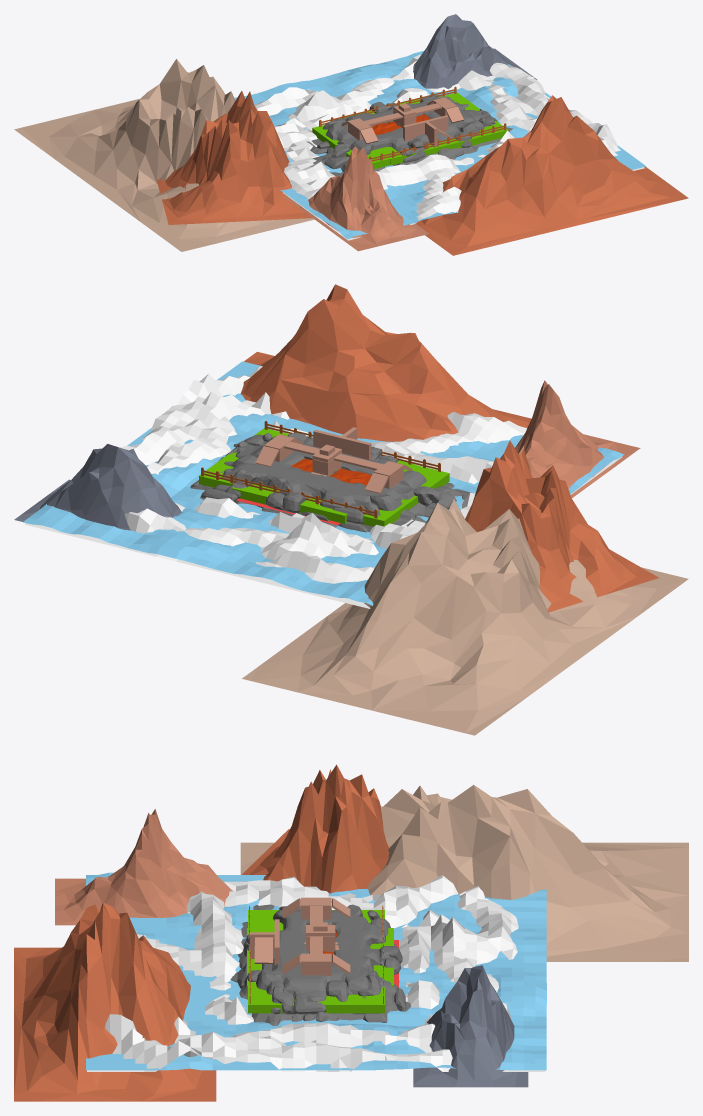
The model's file is enviroment.fbx.
3 views of the same model, one above another, from view 1: azimuth 30°, elevation 25°; view 2: azimuth 150°, elevation 25°; view 3: azimuth 270°, elevation 25° (orthographic). The views are drawn at different scales.
Parts seen in each view (by area): view 1: Landscape_1, Landscape_2, ground, Landscape_3, water, Landscape_5, Plane_4, Landscape_4, Cube_9_2, Cube_8_2, Cube_7_2, Cube_4_2 (+1 smaller); view 2: Landscape_2, ground, Landscape_1, water, Landscape_3, Plane_4, Landscape_4, Landscape_5, Cube_7_2, Cube_10_2, Cube_4_2, Cube_8_2; view 3: Landscape_2, ground, Landscape_1, water, Plane_4, Landscape_3, Landscape_5, Landscape_4, Cube_8_2, Cube_7_2, Cube_1_3, Cube_11_2.
Boxes of the visible parts, x1,y1,x2,y2 form: Landscape_1: (416,95,688,255); Landscape_2: (14,59,314,251); ground: (254,54,644,240); Landscape_3: (156,91,312,224); water: (234,51,646,239); Landscape_5: (283,146,429,251); Plane_4: (306,94,512,176); Landscape_4: (413,14,537,89); Cube_9_2: (378,136,479,165); Cube_8_2: (438,92,508,143); Cube_7_2: (312,125,390,169); Cube_4_2: (403,115,448,141); Landscape_2: (242,499,688,735); ground: (24,366,622,608); Landscape_1: (240,284,531,441); water: (23,361,624,605); Landscape_3: (465,440,658,612); Plane_4: (190,432,471,532); Landscape_4: (14,444,181,530); Landscape_5: (515,380,640,498); Cube_7_2: (362,463,449,526); Cube_10_2: (231,484,347,523); Cube_4_2: (313,429,371,459); Cube_8_2: (199,428,289,487); Landscape_2: (240,785,688,961); ground: (87,875,545,1071); Landscape_1: (14,902,216,1101); water: (86,872,546,1070); Plane_4: (230,904,410,1025); Landscape_3: (242,764,389,893); Landscape_5: (55,809,232,925); Landscape_4: (413,965,528,1087); Cube_8_2: (248,984,384,1013); Cube_7_2: (248,910,384,931); Cube_1_3: (301,953,331,975); Cube_11_2: (301,897,331,919).
Bounding box in the file's own units: 267 × 68 × 276.
